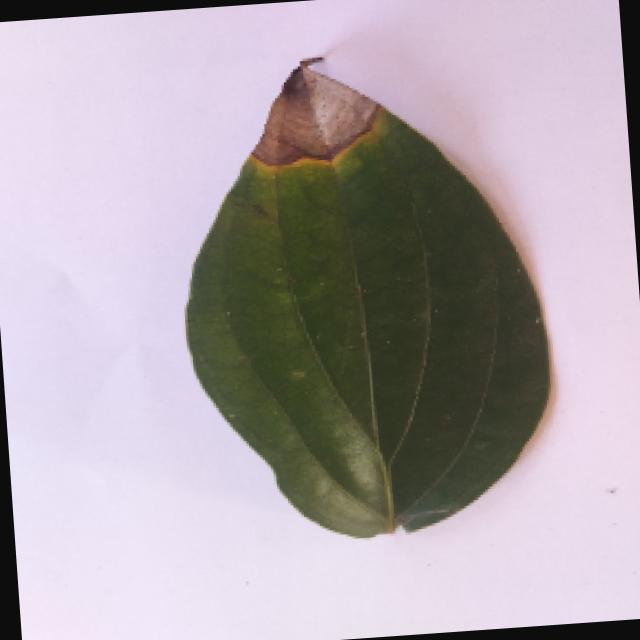footrot: (159, 36, 582, 547)
